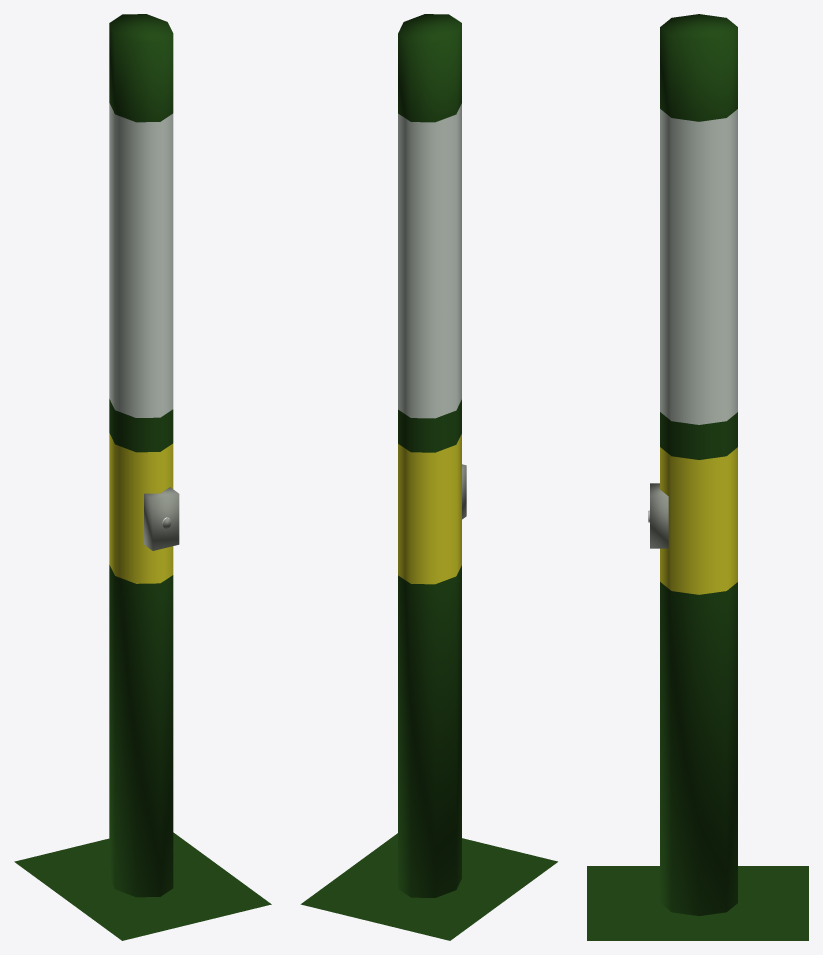
File: botonPanico.fbx
3 renders of one model, left to right at view 1: azimuth 30°, elevation 25°; view 2: azimuth 150°, elevation 25°; view 3: azimuth 270°, elevation 25°, orthographic. The views are drawn at different scales.
Visible parts, largest first — view 1: botonPanico; view 2: botonPanico; view 3: botonPanico.
Part boxes in pixels (box(x1,y1,x2,y2)): botonPanico: box(14, 14, 271, 940); botonPanico: box(300, 14, 557, 940); botonPanico: box(587, 14, 808, 940).
Bounding box in the file's own units: 45.89 × 251 × 57.5.
